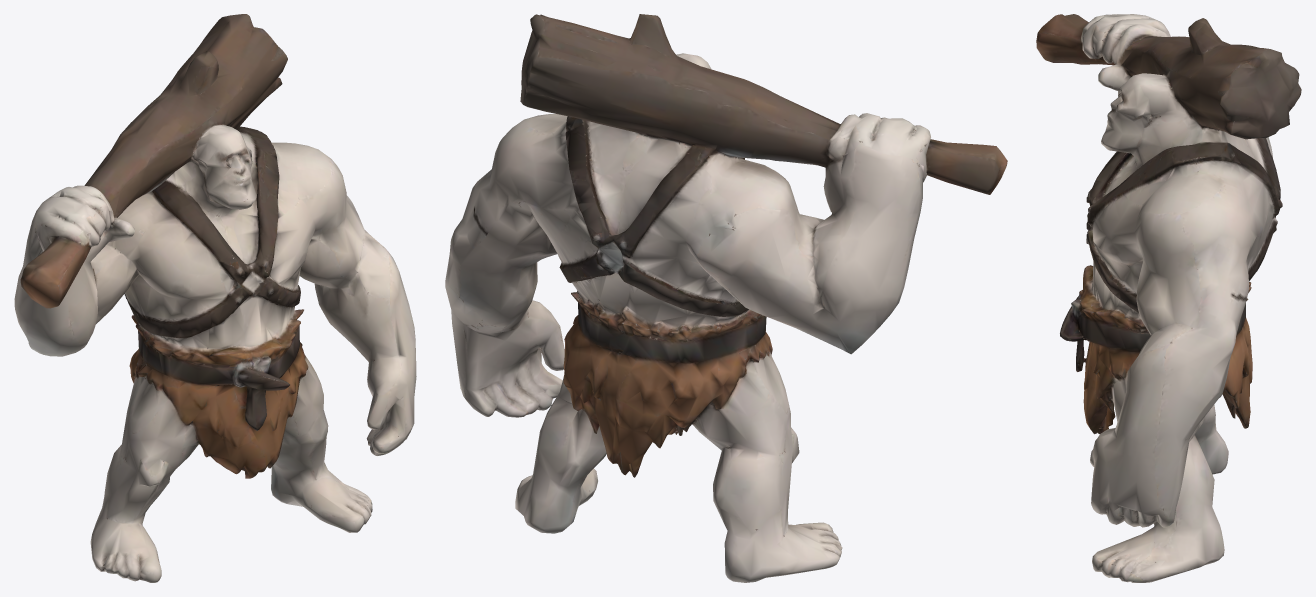
Rendered from geant.glb.
3 views of the same model, side by side, from view 1: azimuth 30°, elevation 25°; view 2: azimuth 150°, elevation 25°; view 3: azimuth 270°, elevation 25° (orthographic). The views are drawn at different scales.
Size of the model in its own units: 1.9 by 2 by 0.958.
Materials: 1 (1 with a texture image).
